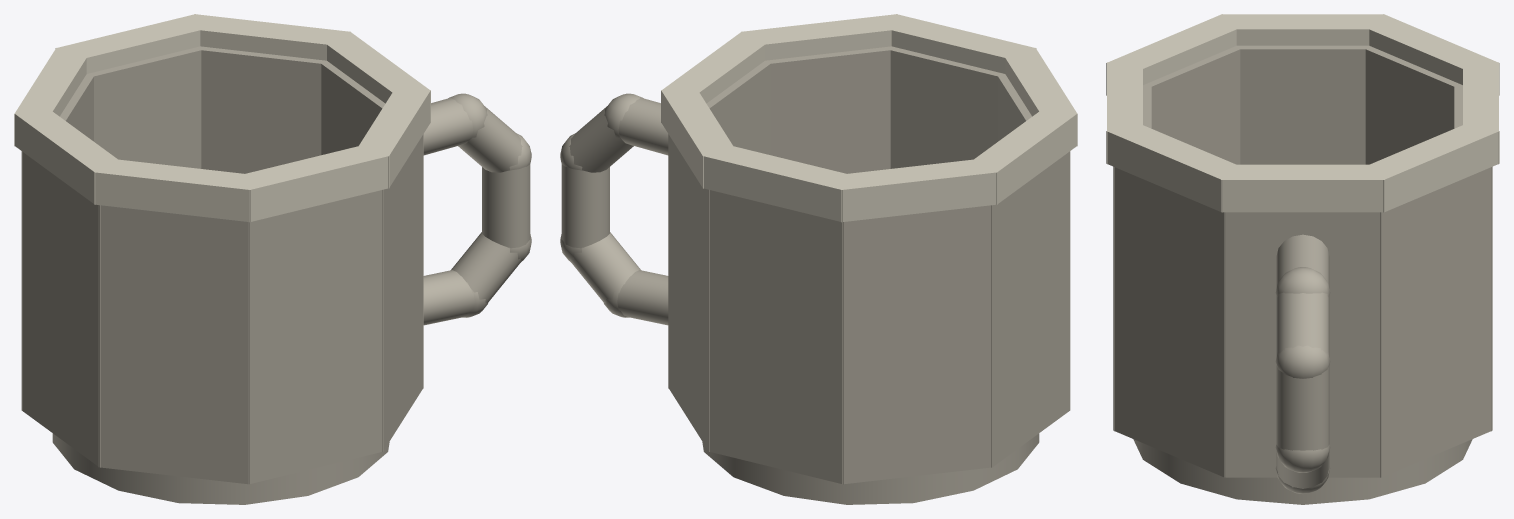
Rendered from CMU3DRMCCoffeeCupFilledDrinksExtraCloudFill1Study.glb.
The picture shows the model from 3 angles, left to right: view 1: azimuth 30°, elevation 25°; view 2: azimuth 150°, elevation 25°; view 3: azimuth 270°, elevation 25°; orthographic projection.
Visible parts, largest first — view 1: ceramic cup wall 06, ceramic cup wall 07, ceramic cup wall 05, ceramic cup wall 02, ceramic cup wall 03, ceramic cup wall 08, rounded mouth rim 06, thick ceramic base, rounded mouth rim 07, rounded mouth rim 05, rounded mouth rim 02, ceramic cup wall 01 (+11 smaller); view 2: ceramic cup wall 04, ceramic cup wall 03, ceramic cup wall 05, ceramic cup wall 08, ceramic cup wall 07, ceramic cup wall 02, rounded mouth rim 04, thick ceramic base, rounded mouth rim 03, rounded mouth rim 05, rounded mouth rim 08, rounded mouth rim 07 (+11 smaller); view 3: ceramic cup wall 02, ceramic cup wall 08, ceramic cup wall 01, ceramic cup wall 05, rounded mouth rim 01, ceramic cup wall 04, ceramic cup wall 06, thick ceramic base, rounded mouth rim 02, rounded mouth rim 08, rounded mouth rim 05, rounded mouth rim 04 (+12 smaller).
Part boxes in pixels (x1,y1,x2,y2): ceramic cup wall 06: [98, 205, 249, 484]; ceramic cup wall 07: [248, 189, 383, 484]; ceramic cup wall 05: [21, 151, 100, 467]; ceramic cup wall 02: [190, 46, 332, 173]; ceramic cup wall 03: [94, 46, 209, 168]; ceramic cup wall 08: [382, 135, 422, 451]; rounded mouth rim 06: [94, 158, 259, 222]; thick ceramic base: [52, 433, 389, 504]; rounded mouth rim 07: [245, 143, 389, 222]; rounded mouth rim 05: [15, 106, 122, 204]; rounded mouth rim 02: [185, 14, 350, 60]; ceramic cup wall 01: [315, 59, 423, 388]; ceramic cup wall 04: [842, 205, 993, 484]; ceramic cup wall 03: [708, 189, 843, 484]; ceramic cup wall 05: [991, 151, 1070, 467]; ceramic cup wall 08: [759, 46, 898, 173]; ceramic cup wall 07: [882, 46, 997, 168]; ceramic cup wall 02: [669, 135, 709, 451]; rounded mouth rim 04: [832, 158, 997, 222]; thick ceramic base: [702, 433, 1039, 504]; rounded mouth rim 03: [702, 143, 859, 222]; rounded mouth rim 05: [974, 106, 1077, 204]; rounded mouth rim 08: [741, 14, 906, 60]; rounded mouth rim 07: [879, 14, 1036, 73]; ceramic cup wall 02: [1380, 166, 1492, 477]; ceramic cup wall 08: [1113, 166, 1225, 477]; ceramic cup wall 01: [1224, 212, 1381, 477]; ceramic cup wall 05: [1228, 45, 1374, 164]; rounded mouth rim 01: [1221, 164, 1384, 212]; ceramic cup wall 04: [1358, 45, 1462, 164]; ceramic cup wall 06: [1143, 48, 1240, 164]; thick ceramic base: [1133, 439, 1472, 504]; rounded mouth rim 02: [1358, 124, 1499, 212]; rounded mouth rim 08: [1106, 125, 1246, 212]; rounded mouth rim 05: [1221, 14, 1384, 45]; rounded mouth rim 04: [1358, 14, 1499, 95].
Size of the model in its own units: 0.3544 by 0.2365 by 0.2517.
